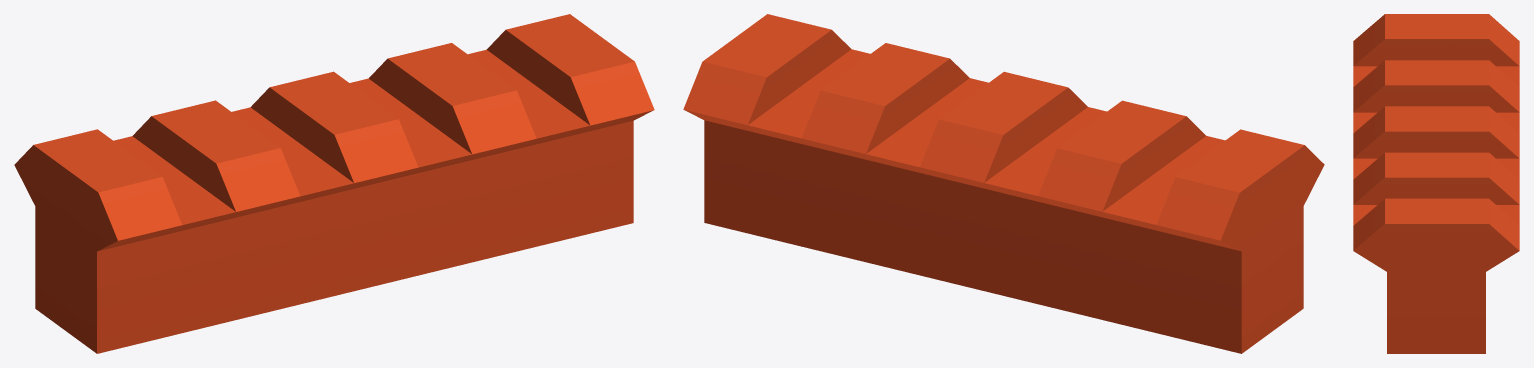
File: Bar_04.fbx
3 renders of one model, left to right at view 1: azimuth 30°, elevation 25°; view 2: azimuth 150°, elevation 25°; view 3: azimuth 270°, elevation 25°, orthographic. The views are drawn at different scales.
Visible parts, largest first — view 1: Bar_04; view 2: Bar_04; view 3: Bar_04.
Boxes of the visible parts, x1,y1,x2,y2 form: Bar_04: (14, 14, 654, 353); Bar_04: (683, 14, 1324, 353); Bar_04: (1353, 14, 1519, 353).
Bounding box in the file's own units: 7.76 × 2.24 × 2.6.
